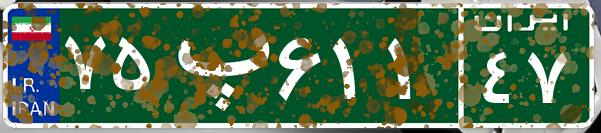1: (385, 28, 445, 110), (330, 28, 385, 110)
4: (475, 38, 525, 113)
5: (110, 28, 158, 105)
6: (273, 28, 330, 110)
7: (57, 26, 110, 107), (525, 38, 570, 115)
پ: (158, 15, 273, 115)
